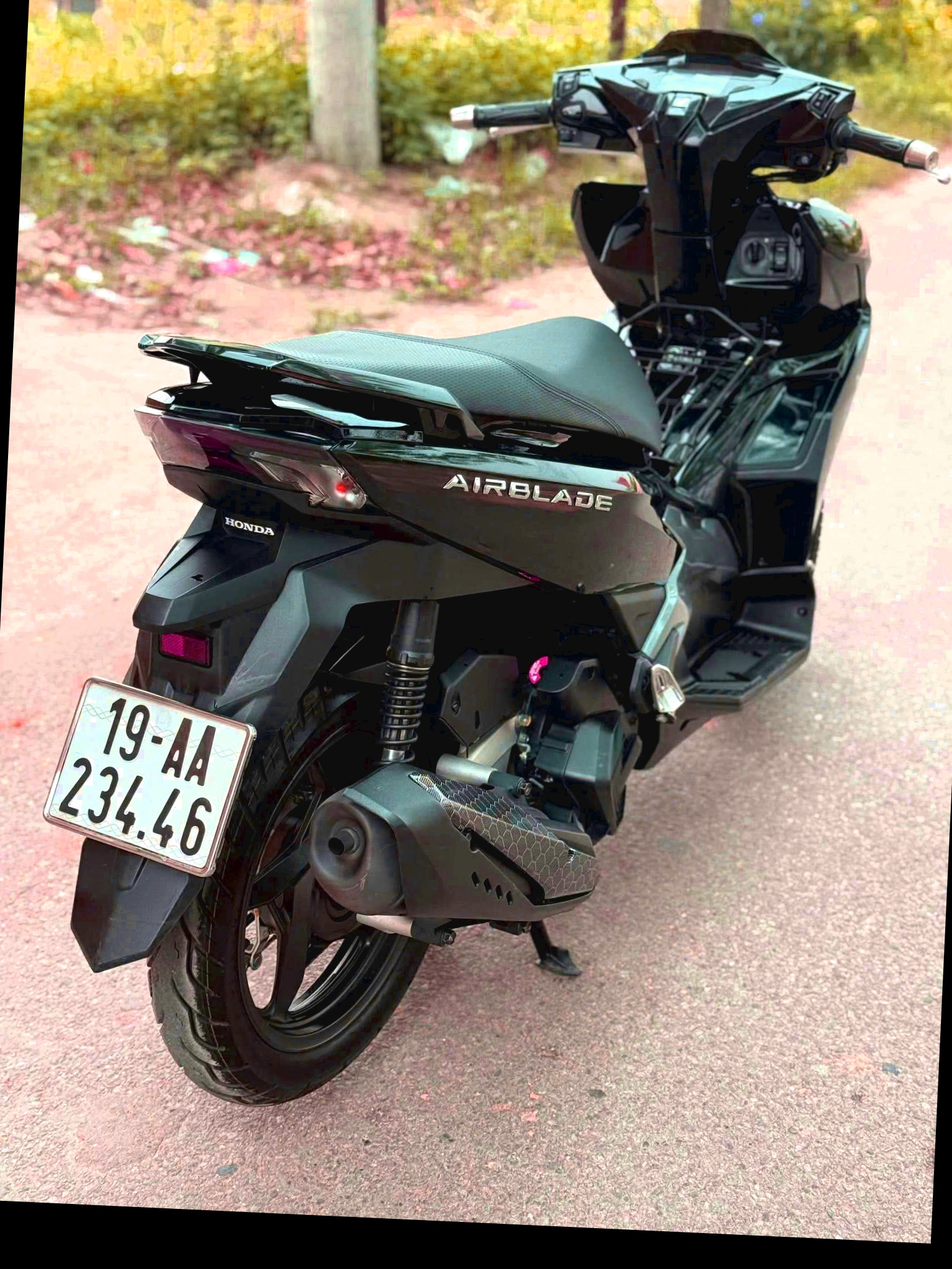Bien-so: (20, 745, 232, 960)
